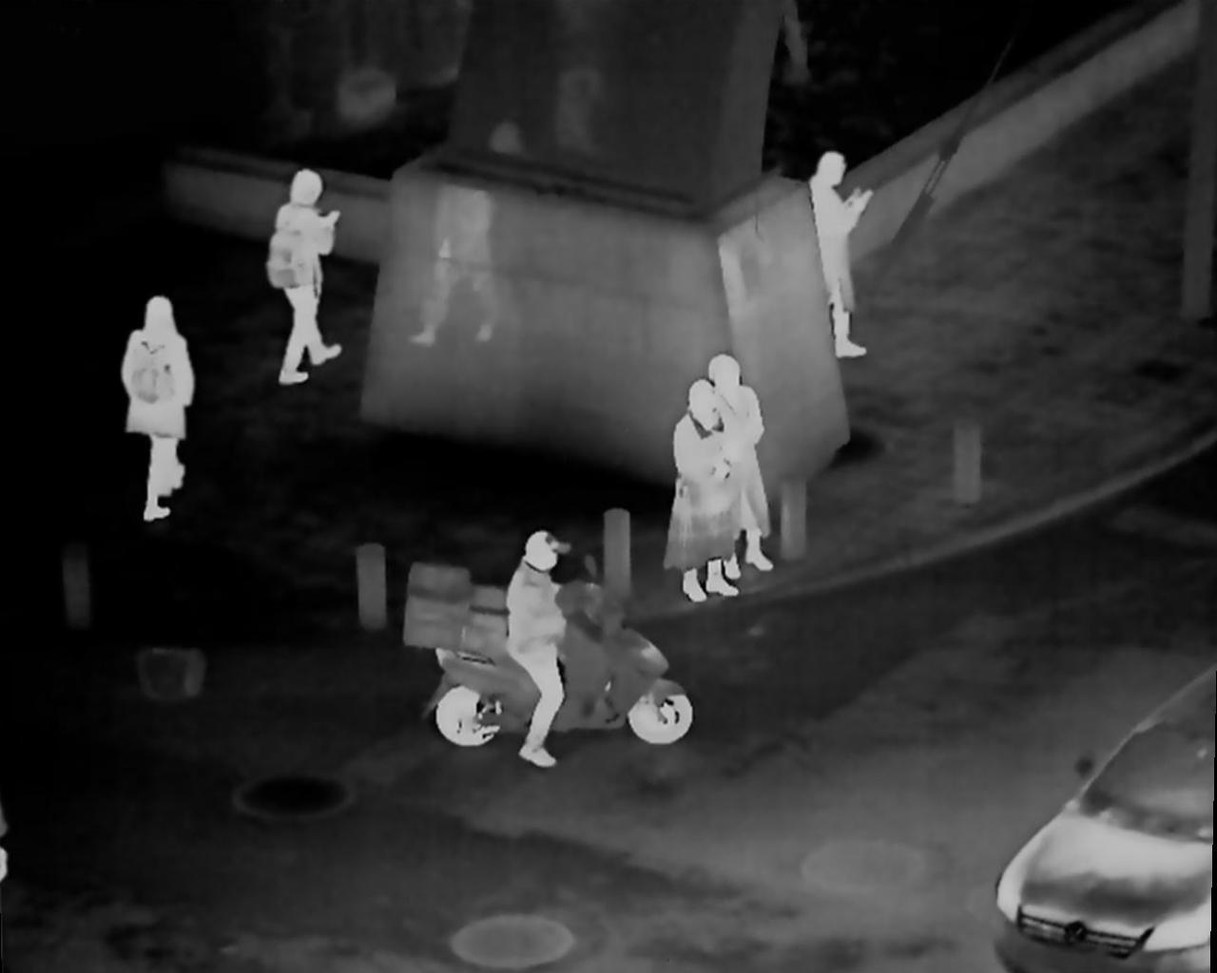person: (265, 170, 342, 384), (119, 293, 191, 516), (668, 378, 738, 605), (510, 530, 573, 773), (704, 354, 774, 569), (809, 151, 870, 359)
